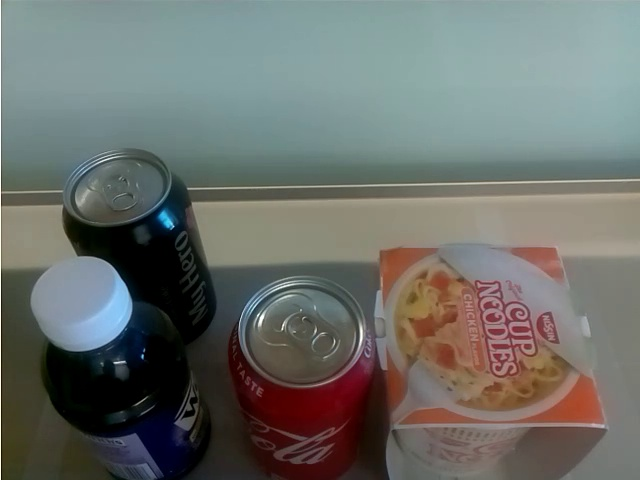cocacola: (230, 276, 376, 472)
cocacola-zero-shadow: (58, 141, 206, 255)
juice: (26, 256, 215, 480)
noodles: (381, 241, 616, 478)
